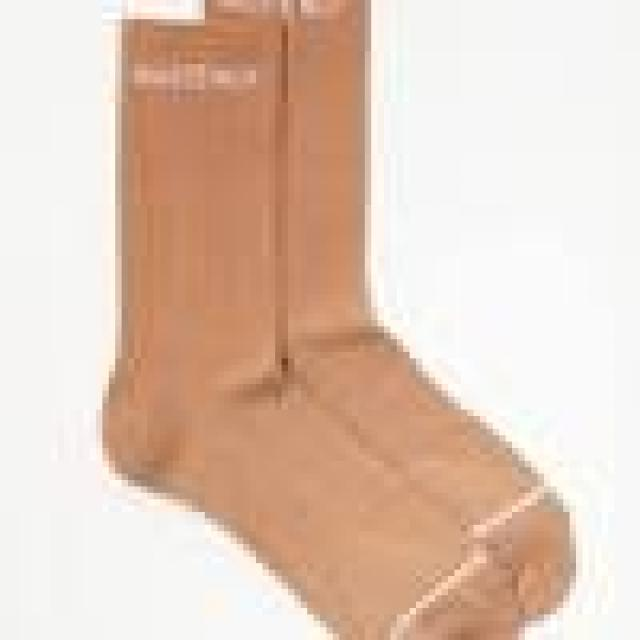Clothes -Biodegradable-: (102, 0, 579, 640)
